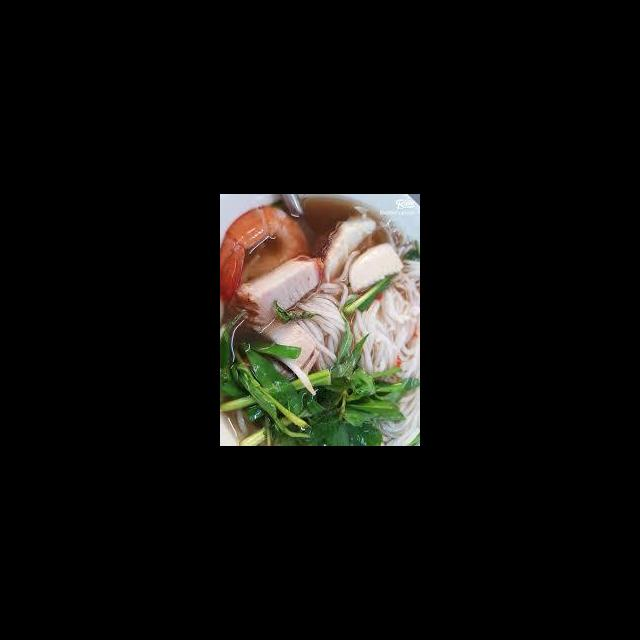bun: (287, 241, 420, 446)
ca: (322, 211, 379, 285), (345, 240, 408, 297)
rau ram: (272, 367, 407, 446), (236, 342, 307, 419), (323, 314, 371, 395)
thit heo quay: (232, 248, 327, 335), (251, 310, 320, 383)
tom: (221, 201, 315, 309)
